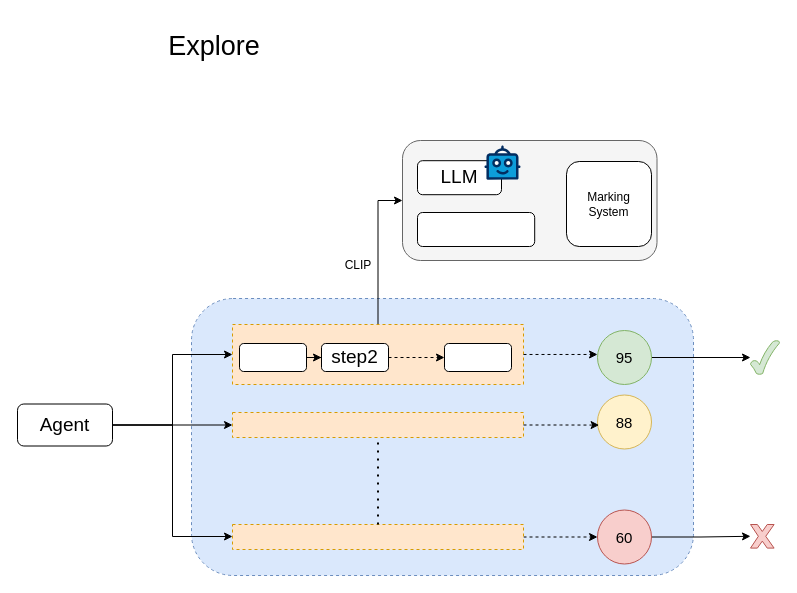
This 797x593 diagram has some shape labels left out. The shapes that lost their labels are listed below. From the top down, each one's centre as x and y in pixels, then its label:
the point at 475,229: VaNN
the point at 272,357: step1
the point at 478,357: stepk
